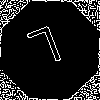L: (25, 25, 68, 77)
